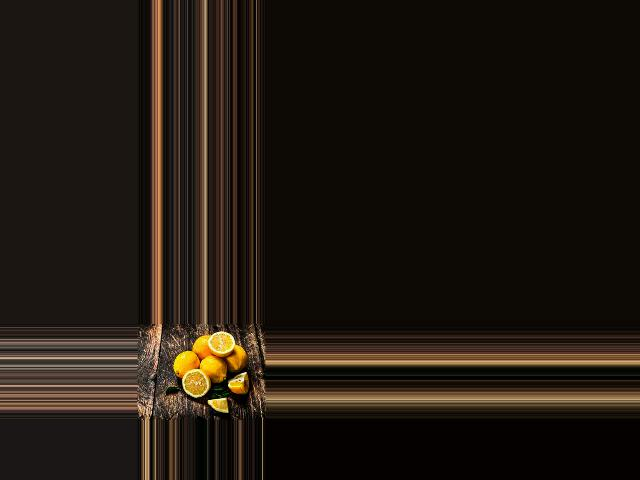lemon: (222, 347, 248, 375)
